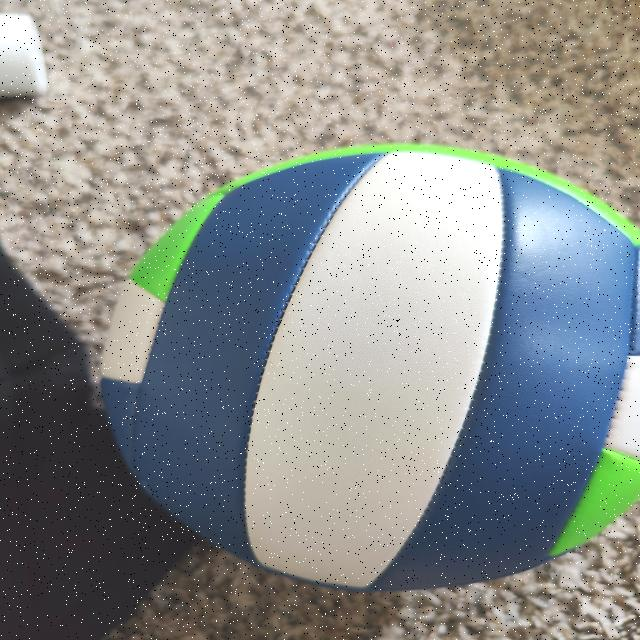ball: (97, 144, 639, 588)
